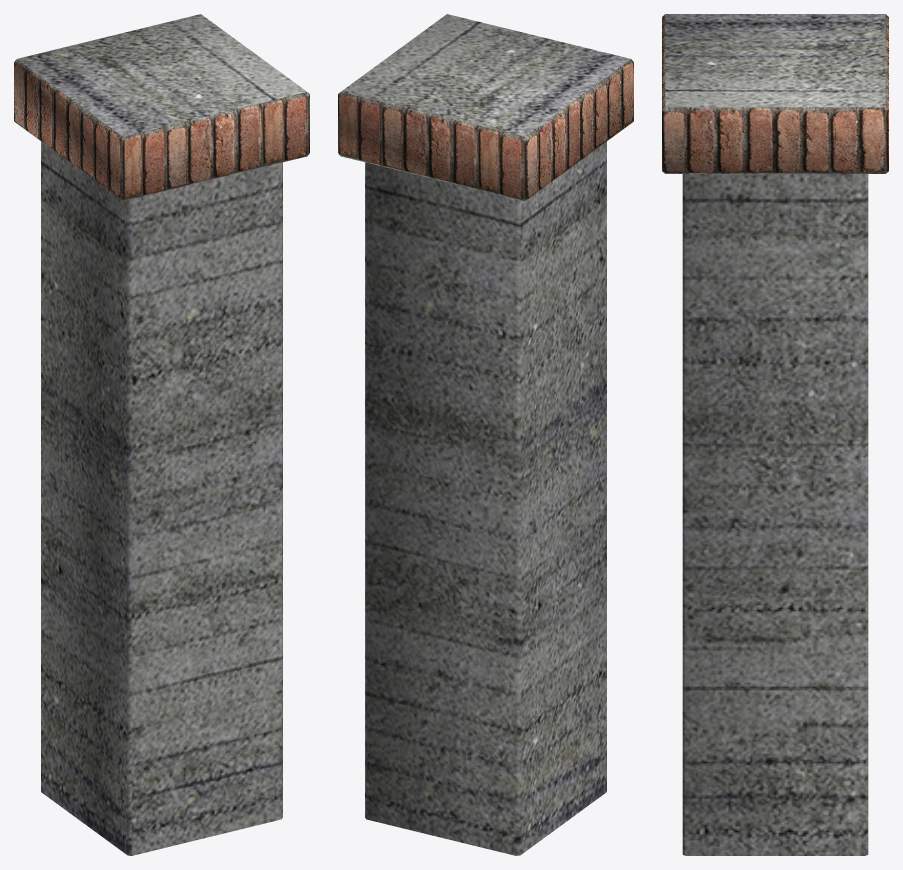
Rendered from fencePost01.FBX.
3 views of the same model, side by side, from view 1: azimuth 30°, elevation 25°; view 2: azimuth 150°, elevation 25°; view 3: azimuth 270°, elevation 25° (orthographic). The views are drawn at different scales.
Visible parts, largest first — view 1: metal_fence_column_2; view 2: metal_fence_column_2; view 3: metal_fence_column_2.
Part boxes in pixels (bbox=[...]): metal_fence_column_2: bbox=[14, 14, 309, 855]; metal_fence_column_2: bbox=[338, 14, 633, 855]; metal_fence_column_2: bbox=[662, 14, 888, 855].
Size of the model in its own units: 72.09 by 265 by 72.09.
